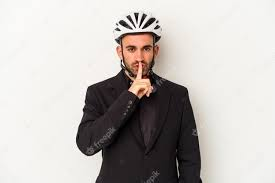helmet: (113, 12, 164, 76)
